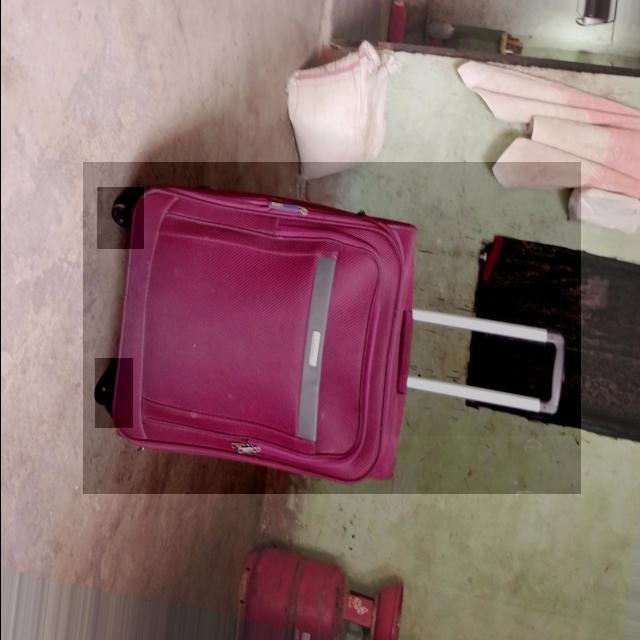Bag: (80, 184, 578, 500)
Handle: (397, 295, 575, 429)
